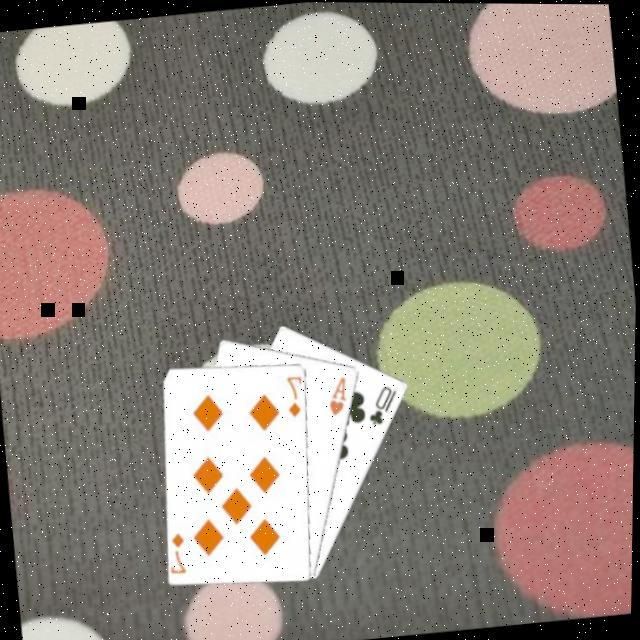10C: (366, 380, 406, 428)
7D: (284, 370, 310, 419), (169, 526, 195, 575)
AH: (324, 370, 356, 418)
